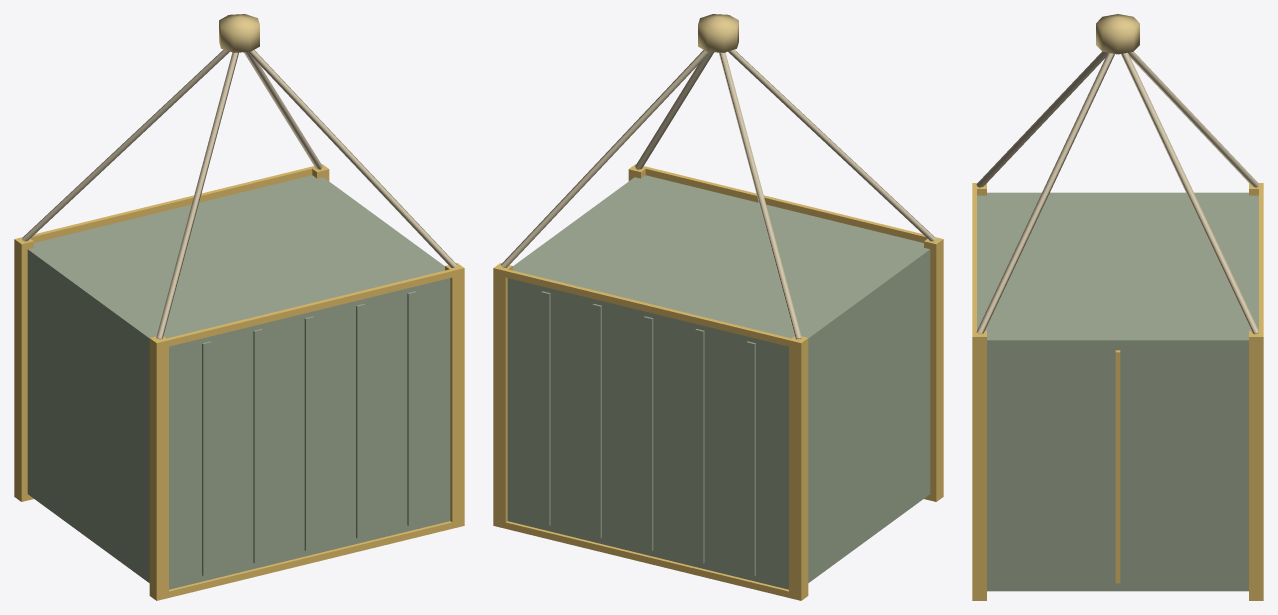
File: container.glb
3 renders of one model, left to right at view 1: azimuth 30°, elevation 25°; view 2: azimuth 150°, elevation 25°; view 3: azimuth 270°, elevation 25°, orthographic. The views are drawn at different scales.
Parts seen in each view (by area): view 1: container; view 2: container; view 3: container.
Part boxes in pixels (x1=…): container: x1=14, y1=14, x2=464, y2=600; container: x1=493, y1=14, x2=943, y2=600; container: x1=972, y1=14, x2=1263, y2=600.
Size of the model in its own units: 3 by 4.6 by 2.4.
